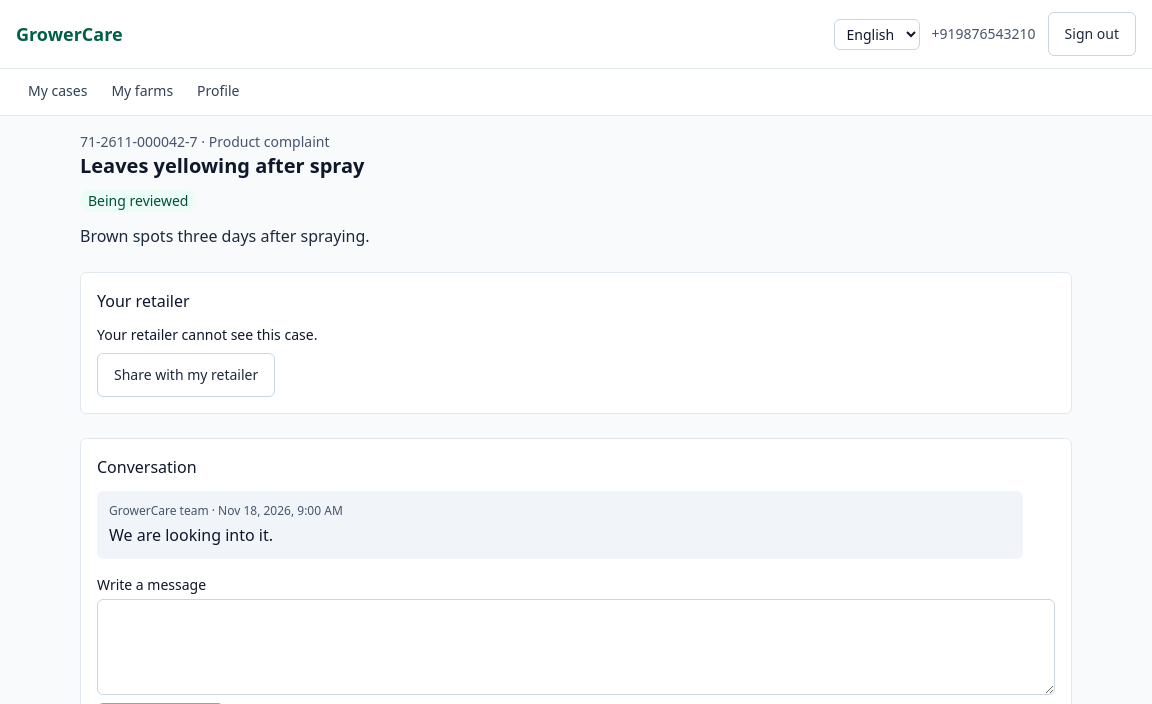
Test: SPEC-FE-02 R107 case detail › FE-E107 FE-E111 sharing with my retailer, then stopping
The image size is (1152, 704).
Expected: the text "Your retailer cannot see this case." is shown, [97, 325, 317, 344]
Click the button "Share with my retailer".
click(186, 375)  # box [97, 353, 275, 397]
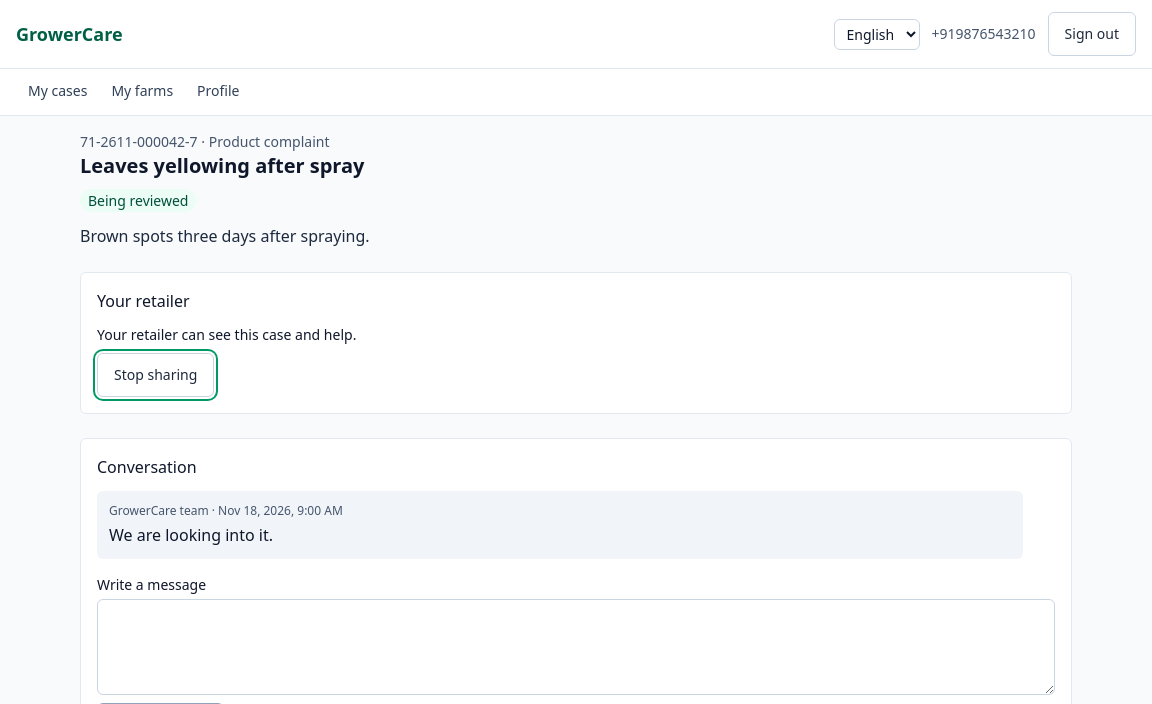
Now the text "Your retailer can see this case and help." is shown, box [97, 325, 356, 344]
Click the button "Stop sharing".
click(156, 375)  # box [97, 353, 214, 397]
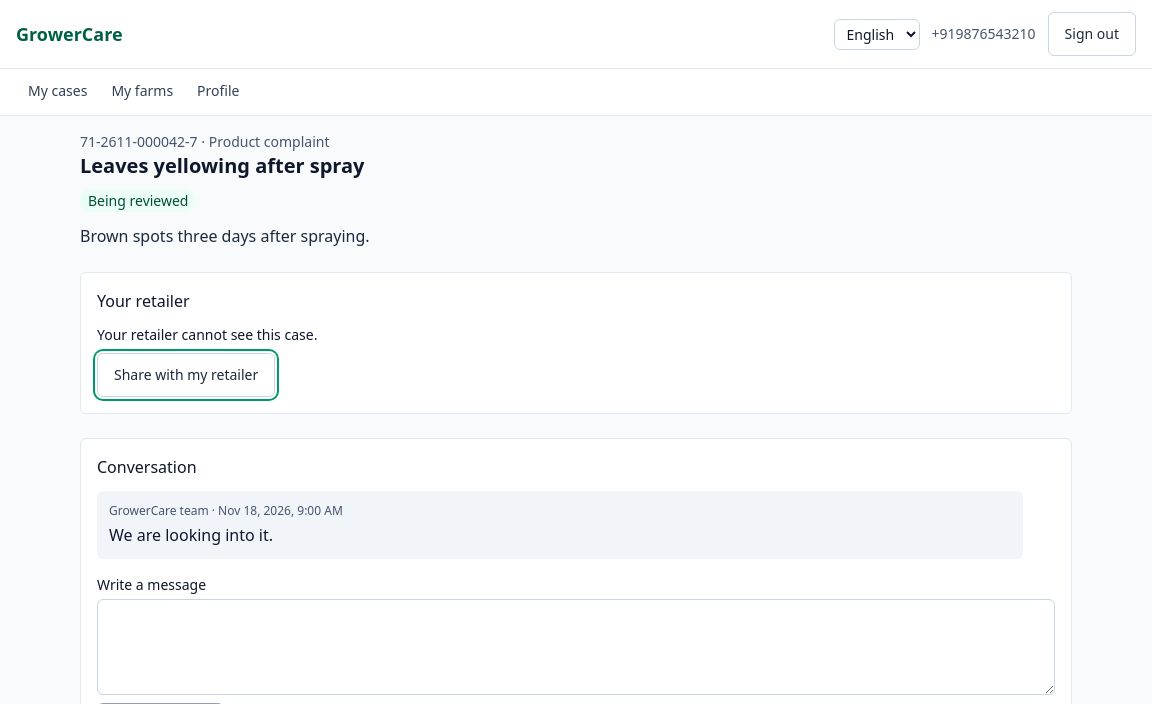
Now the text "Your retailer cannot see this case." is shown, box [97, 325, 317, 344]
